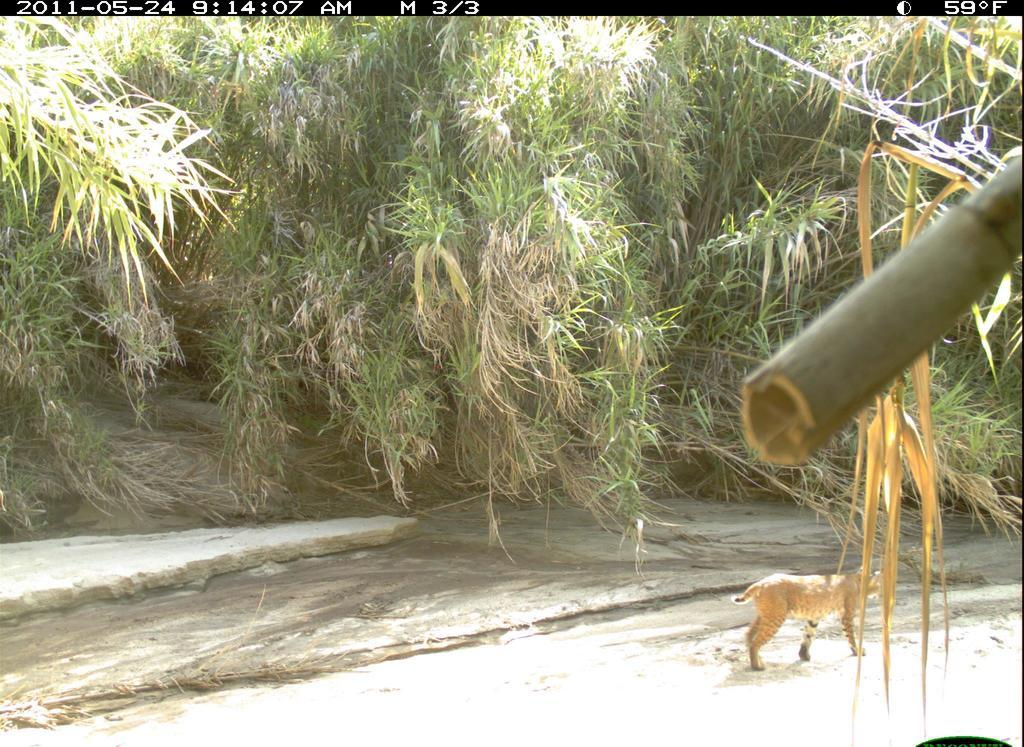bobcat: (730, 553, 899, 679)
